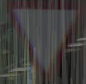Give way: (5, 2, 76, 67)
